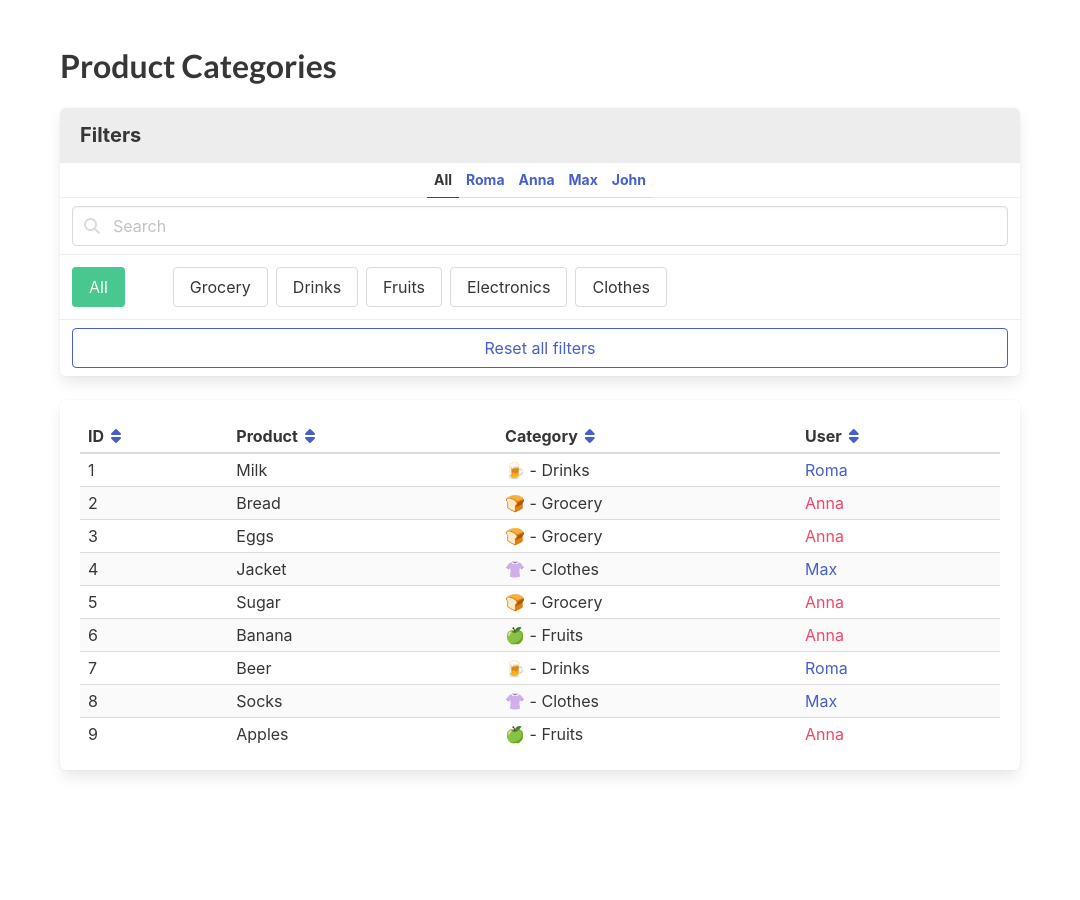
Test: Filter by owner › should highlight only selected user
Click the link with test id "FilterUser" showing "Roma" at (486, 181), box [459,163,512,198]
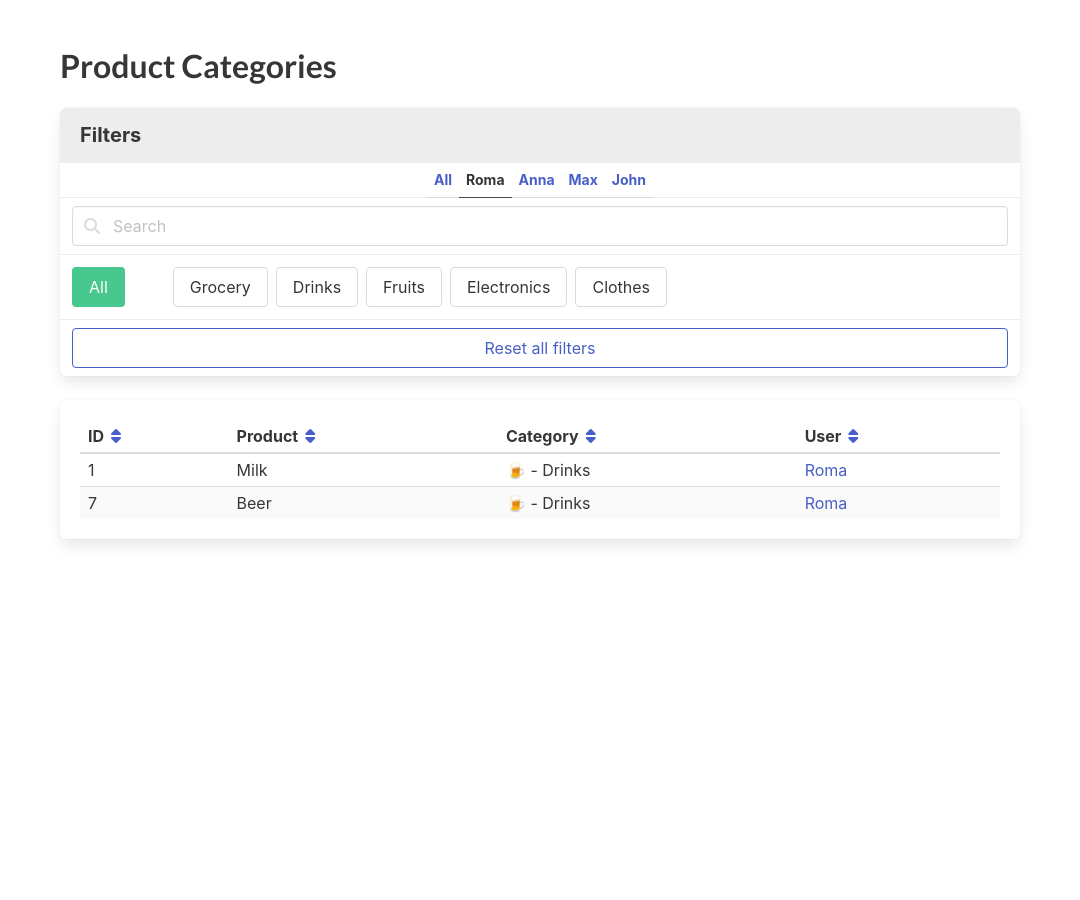
Expected: the number of links with test id "FilterUser" is 1, [459,163,512,198]
